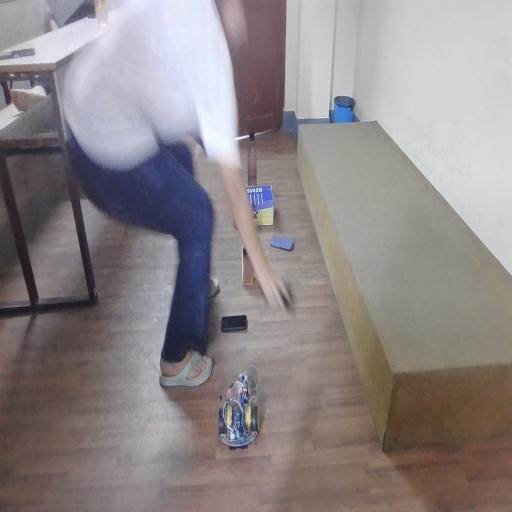Bottle: (243, 120, 263, 182)
car: (227, 376, 274, 457)
